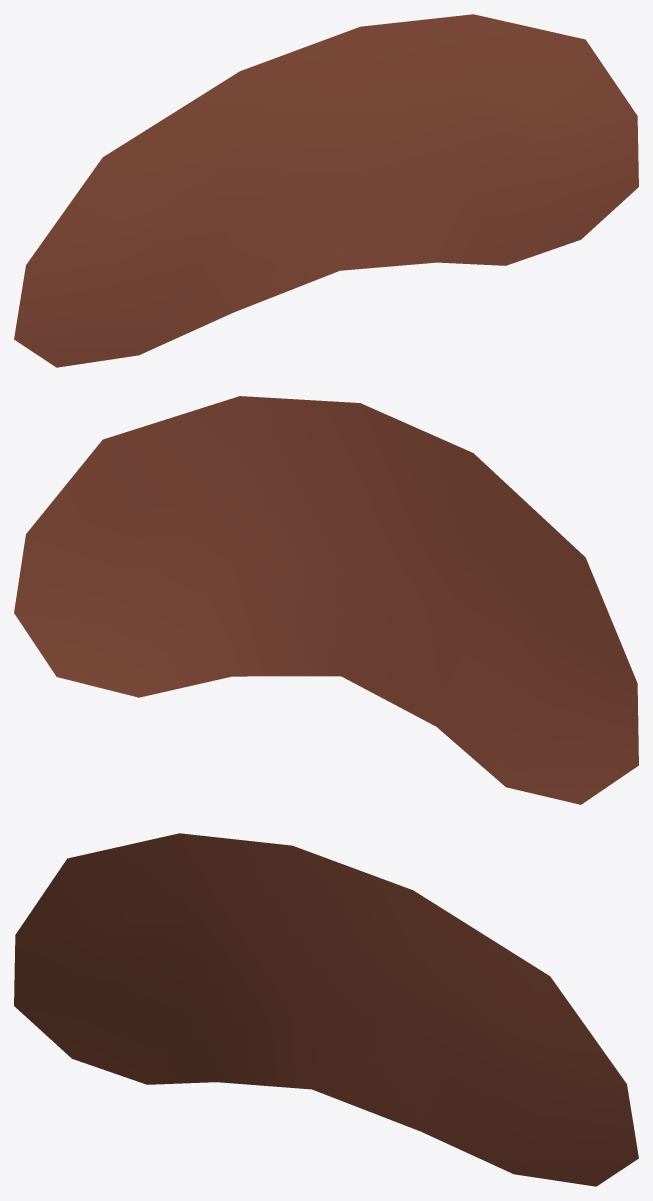
Rendered from Mouth_Yellow_7.fbx.
3 views of the same model, one above another, from view 1: azimuth 30°, elevation 25°; view 2: azimuth 150°, elevation 25°; view 3: azimuth 330°, elevation 25° (orthographic).
Parts seen in each view (by area): view 1: Mouth_Yellow_7; view 2: Mouth_Yellow_7; view 3: Mouth_Yellow_7.
Part boxes in pixels (bbox=[...]): Mouth_Yellow_7: bbox=[14, 14, 638, 367]; Mouth_Yellow_7: bbox=[14, 396, 638, 804]; Mouth_Yellow_7: bbox=[14, 833, 638, 1186].
Size of the model in its own units: 7.44 by 3.55 by 0.8569.
